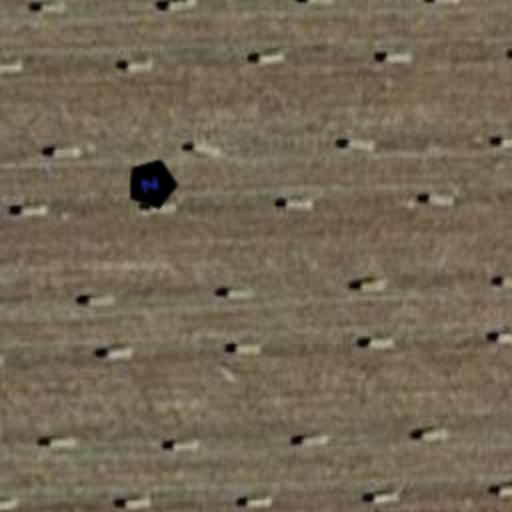pentagon: (118, 150, 186, 218)
